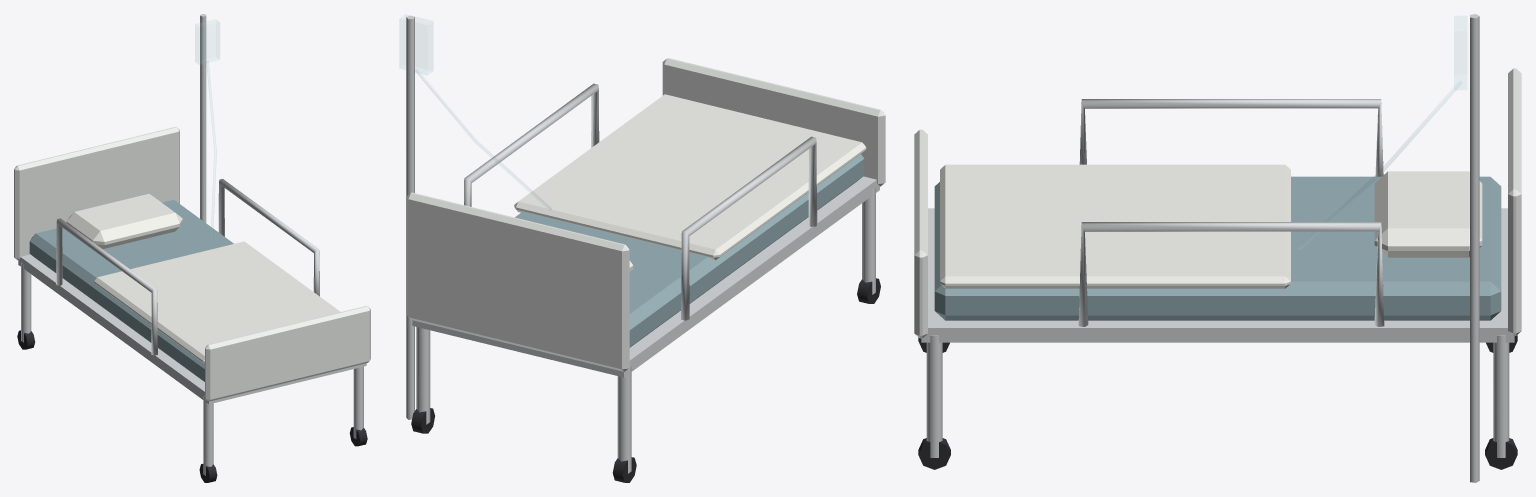
Rendered from hs_bed.glb.
3 views of the same model, side by side, from view 1: azimuth 30°, elevation 25°; view 2: azimuth 150°, elevation 25°; view 3: azimuth 270°, elevation 25° (orthographic). The views are drawn at different scales.
Parts seen in each view (by area): view 1: hs_bed; view 2: hs_bed; view 3: hs_bed.
Part boxes in pixels (x1,y1,x2,y2): hs_bed: (14,14,370,482); hs_bed: (400,14,885,482); hs_bed: (914,14,1521,482).
Bounding box in the file's own units: 1.25 × 1.9 × 2.25.
